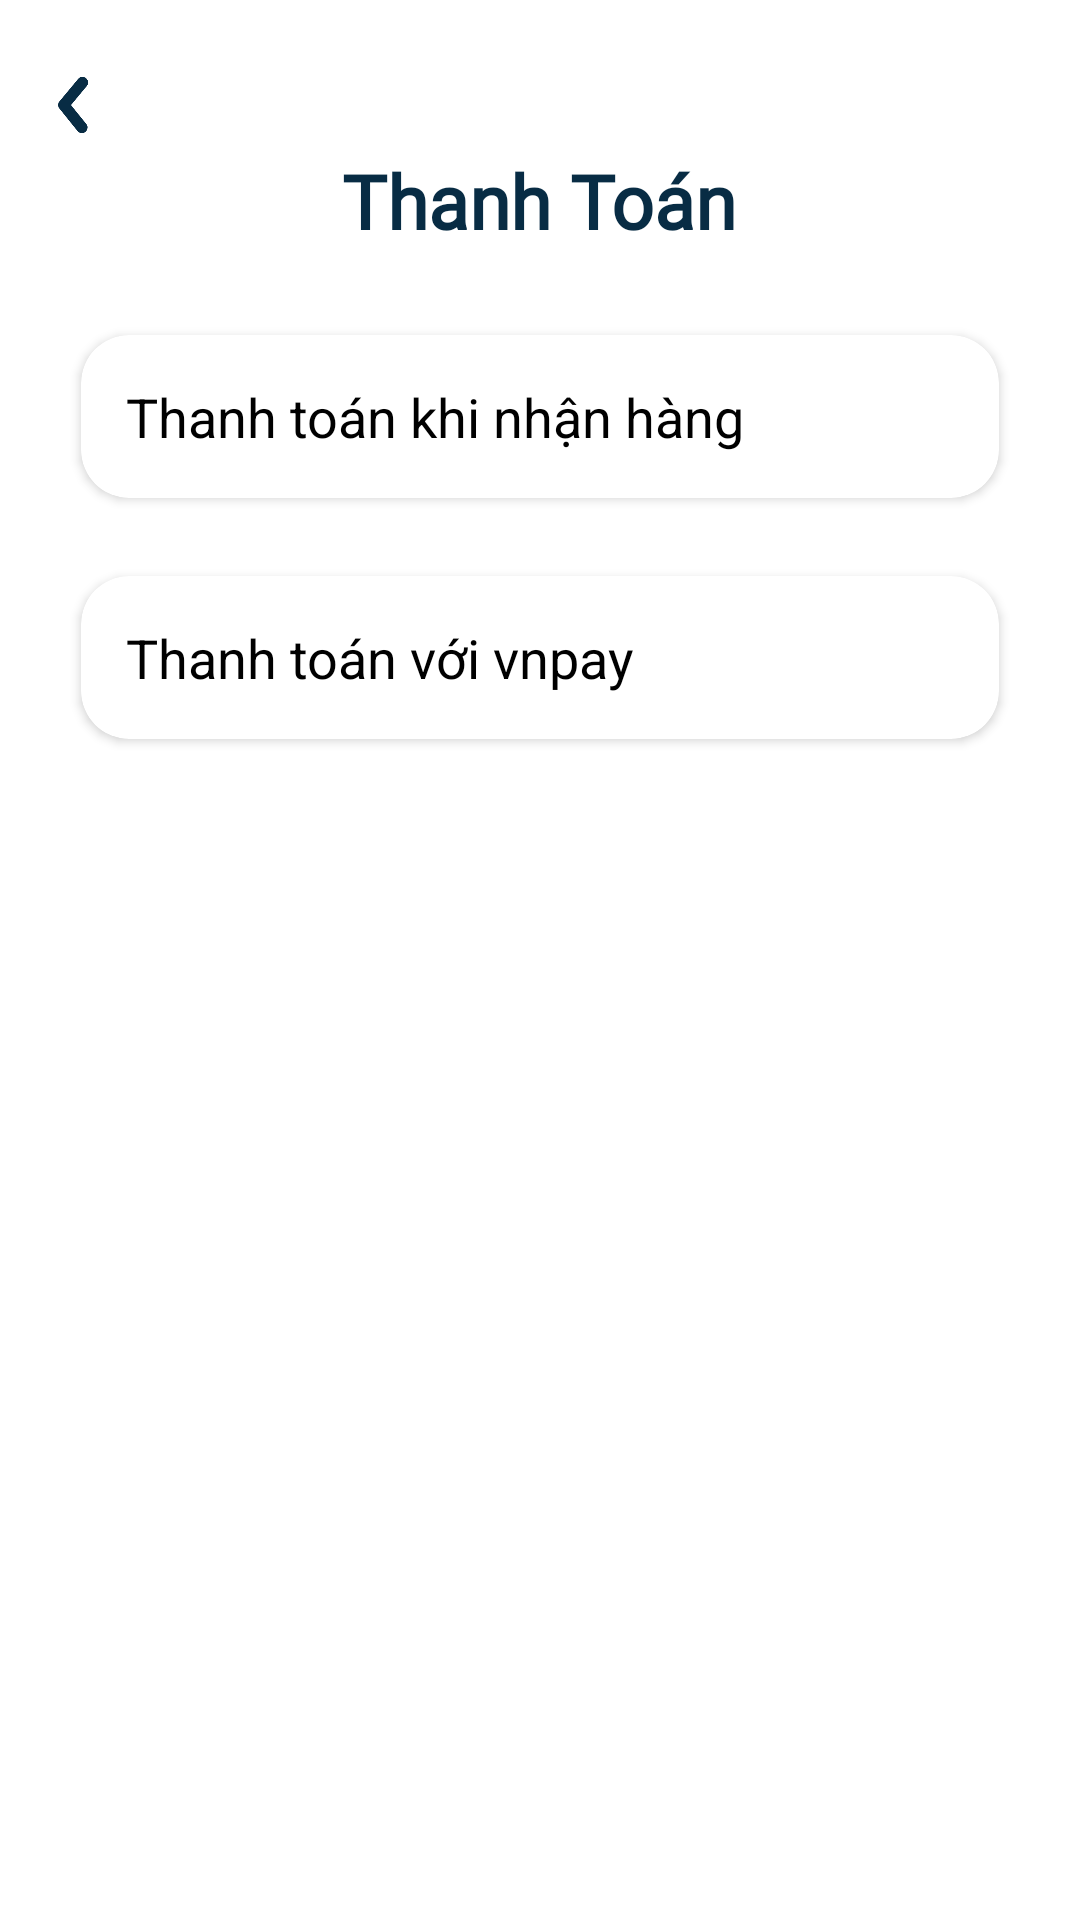

Point at icon controls on the screen. Image size 1080px×1920px, points as (x=x, y=y).
back: (x=73, y=105)
